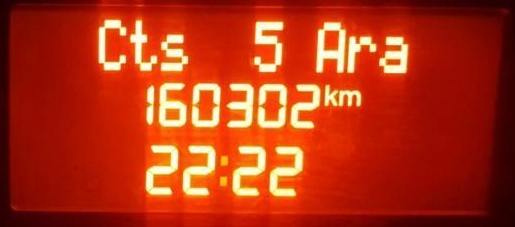0: (187, 80, 223, 128), (255, 82, 287, 130)
1: (139, 83, 154, 128)
2: (142, 142, 179, 198), (180, 142, 216, 199), (232, 142, 266, 202), (268, 143, 304, 198), (288, 82, 321, 129)
3: (226, 80, 253, 130)
5: (248, 16, 284, 74)
6: (156, 81, 186, 128)
X: (312, 15, 345, 77), (92, 15, 128, 71), (159, 21, 189, 77), (128, 17, 158, 72), (347, 29, 377, 77), (378, 30, 409, 76), (338, 85, 364, 110), (217, 152, 230, 190), (323, 81, 338, 106)
